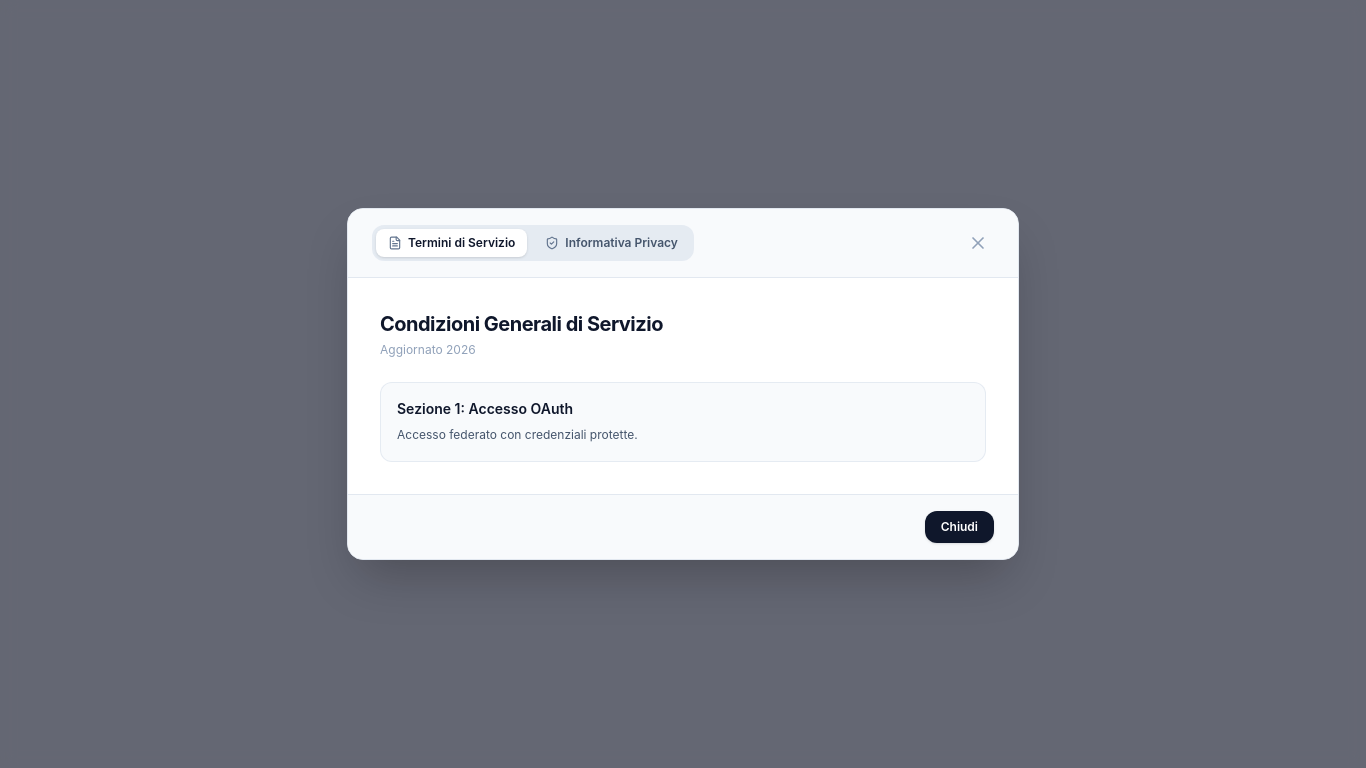
Scenario: StandalonePolicyModal › switches to privacy tab on tab click
The width and height of the screenshot is (1366, 768).
Click the button "Informativa Privacy": (612, 243) [533,229,690,257]
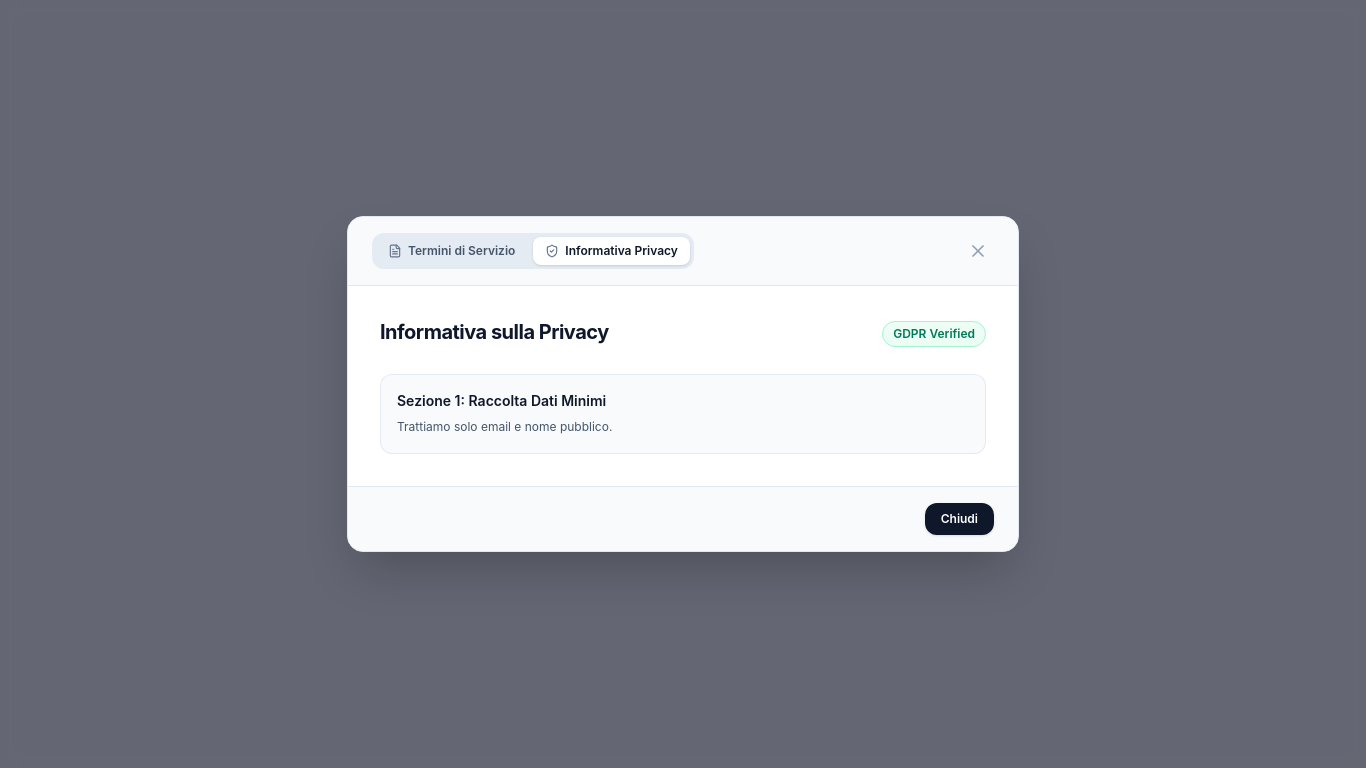
Result: the heading "Informativa sulla Privacy" is shown at [380,318,609,346]
Result: the heading "Sezione 1: Raccolta Dati Minimi" is shown at [397,392,606,409]
Result: the text "GDPR Verified" is shown at [882,321,986,347]
